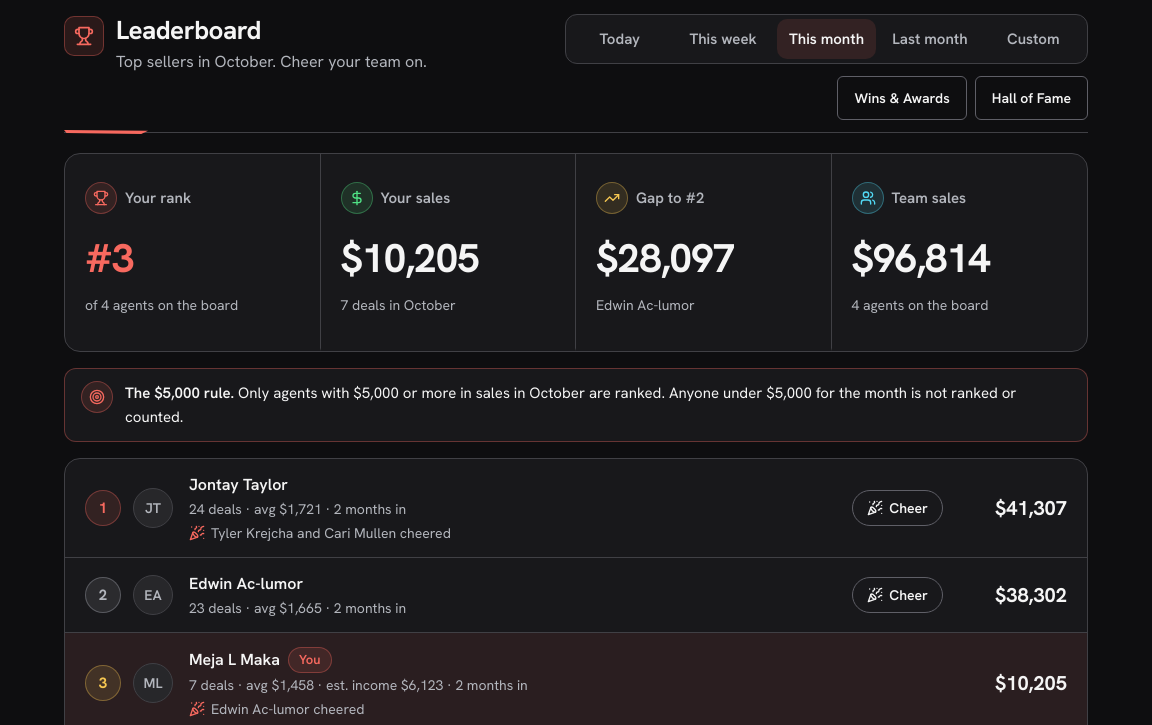
Leaderboard › cheers a teammate on the server, says Cheered, pops once, and a second tap takes it back
Click the button with aria-label "Cheer Edwin Ac-lumor" at (898,595), box left=852, top=577, right=943, bottom=613
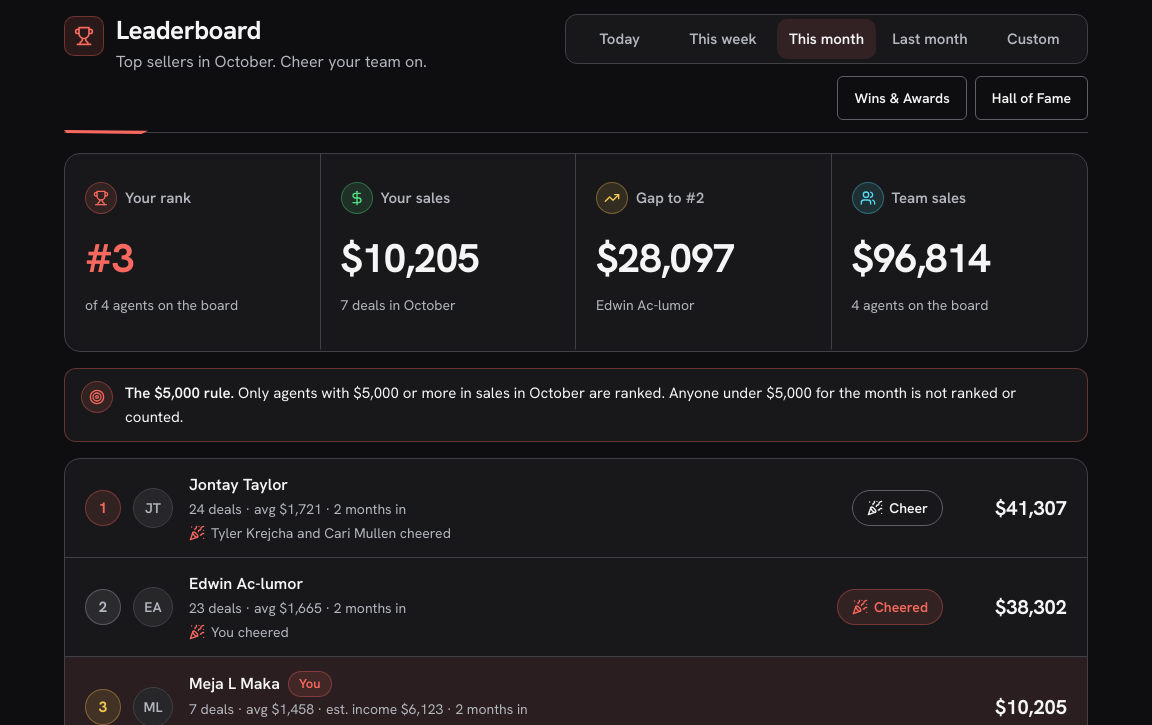
Now the text "You cheered" is shown, box left=211, top=622, right=289, bottom=642
Click the button with aria-label "Cheered Edwin Ac-lumor" at (890,607), box left=837, top=589, right=943, bottom=625
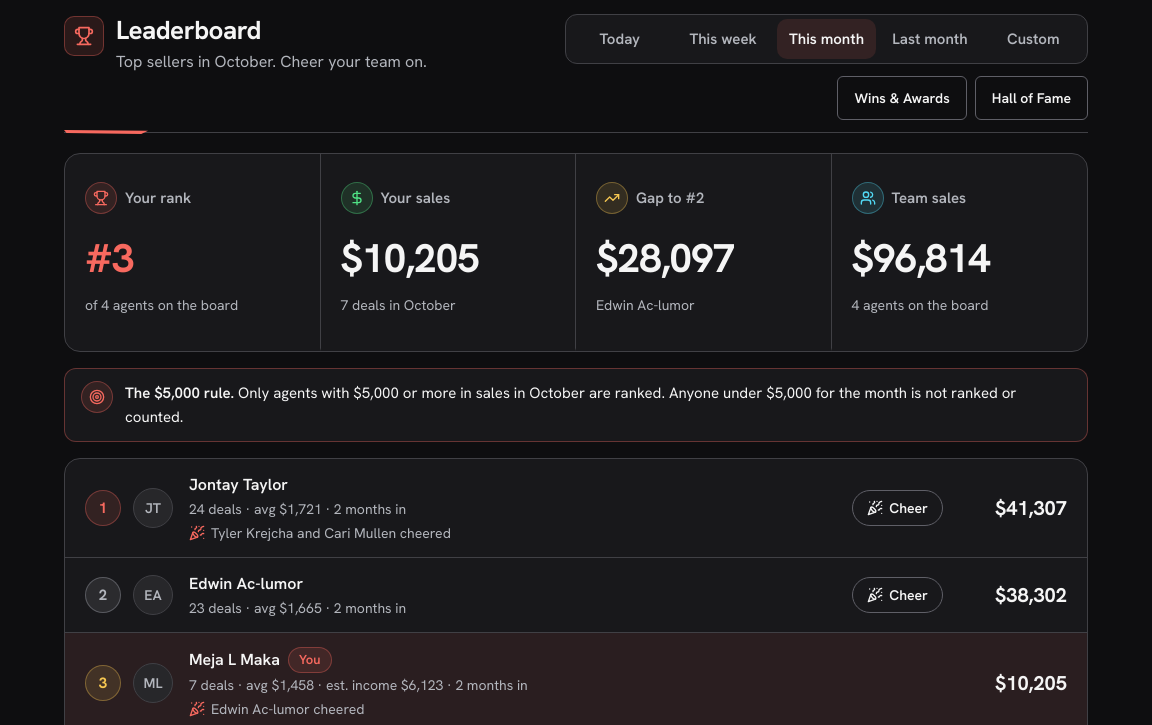
Now the button with aria-label "Cheer Edwin Ac-lumor" is not pressed, box left=852, top=577, right=943, bottom=613
